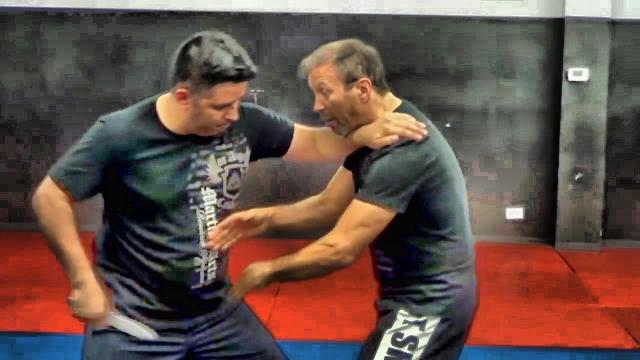knife: (66, 296, 156, 344)
